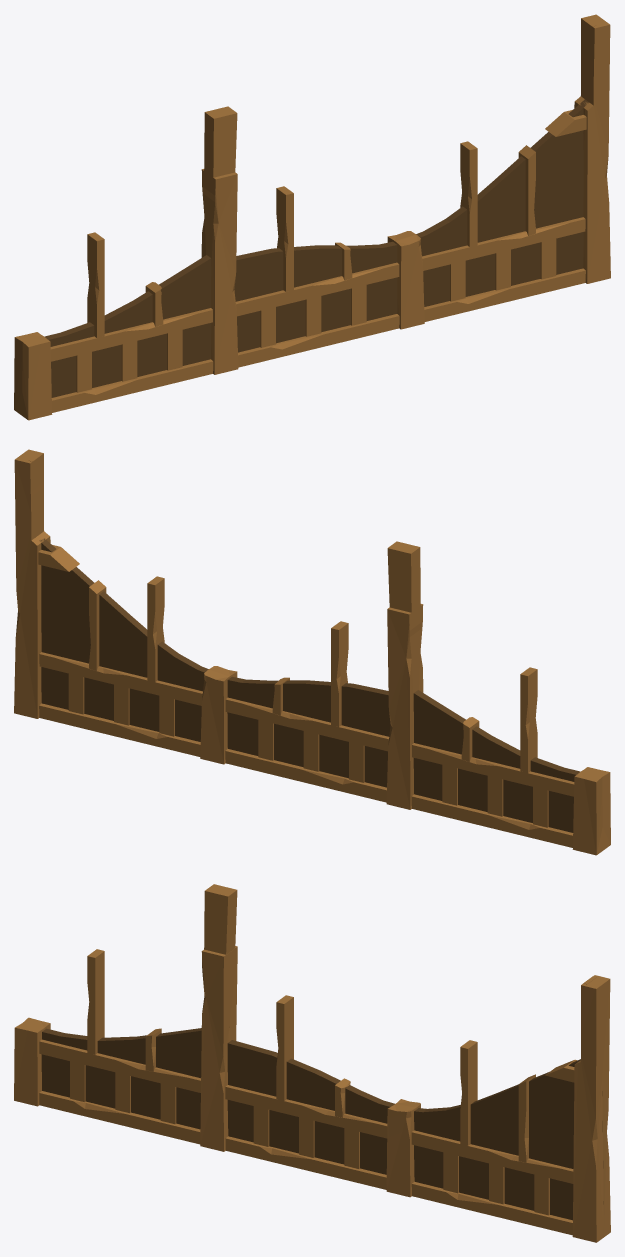
The model's file is destroyed piece.fbx.
3 renders of one model, top to bottom at view 1: azimuth 30°, elevation 25°; view 2: azimuth 150°, elevation 25°; view 3: azimuth 330°, elevation 25°, orthographic.
Visible parts, largest first — view 1: destroyed piece; view 2: destroyed piece; view 3: destroyed piece.
Part boxes in pixels (x1,y1,x2,y2): destroyed piece: (14,14,610,420); destroyed piece: (14,449,610,855); destroyed piece: (14,884,610,1242).
Size of the model in its own units: 782 by 326 by 33.46.
